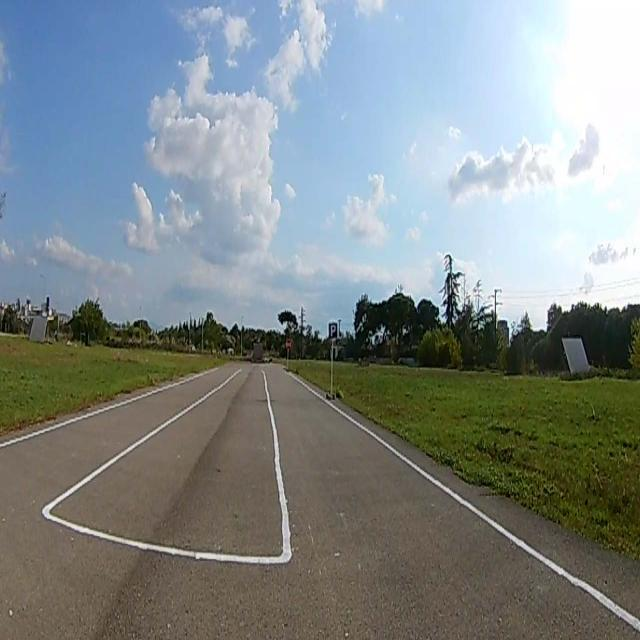park: (329, 323, 337, 338)
